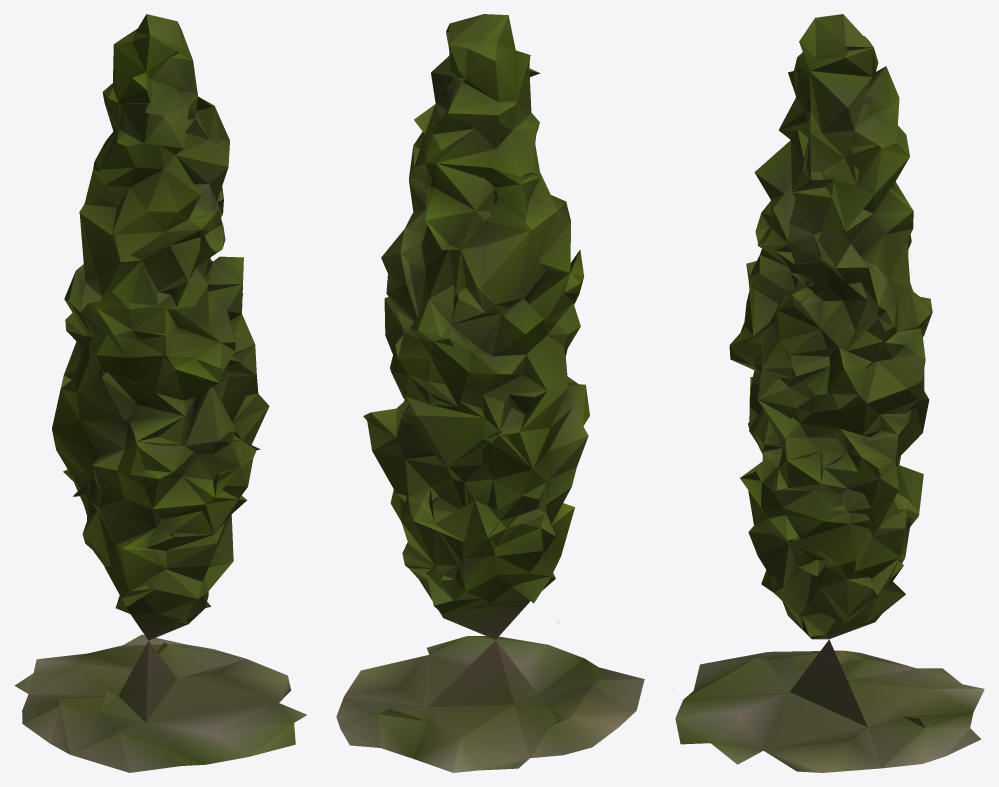
Rendered from lib_tp_duonglhasa.vc2.glb.
3 views of the same model, side by side, from view 1: azimuth 30°, elevation 25°; view 2: azimuth 150°, elevation 25°; view 3: azimuth 270°, elevation 25° (orthographic).
Parts seen in each view (by area): view 1: lib_tp_duonglhasa; view 2: lib_tp_duonglhasa; view 3: lib_tp_duonglhasa.
Part boxes in pixels (x1,y1,x2,y2): lib_tp_duonglhasa: [14, 14, 306, 772]; lib_tp_duonglhasa: [336, 14, 644, 772]; lib_tp_duonglhasa: [673, 14, 984, 772].
Bounding box in the file's own units: 0.7305 × 1.95 × 0.79.
